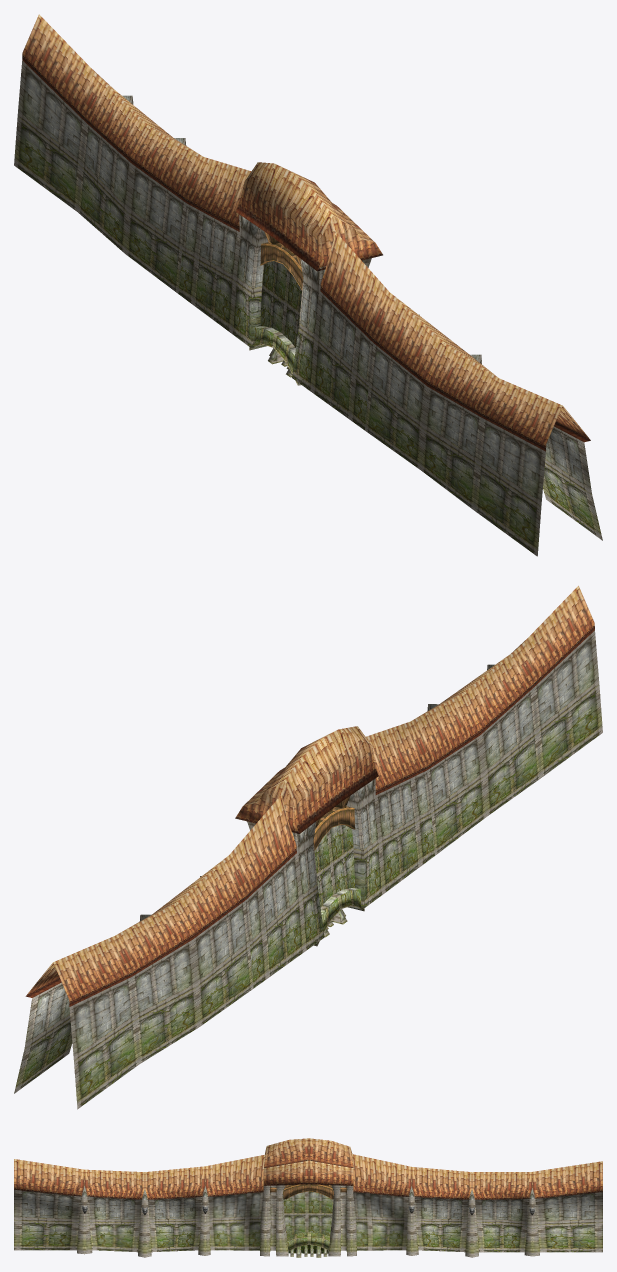
Rendered from abbeygate02.glb.
3 views of the same model, one above another, from view 1: azimuth 30°, elevation 25°; view 2: azimuth 150°, elevation 25°; view 3: azimuth 270°, elevation 25° (orthographic). The views are drawn at different scales.
Size of the model in its own units: 16.03 by 31.78 by 160.
6 materials, 6 textured.
